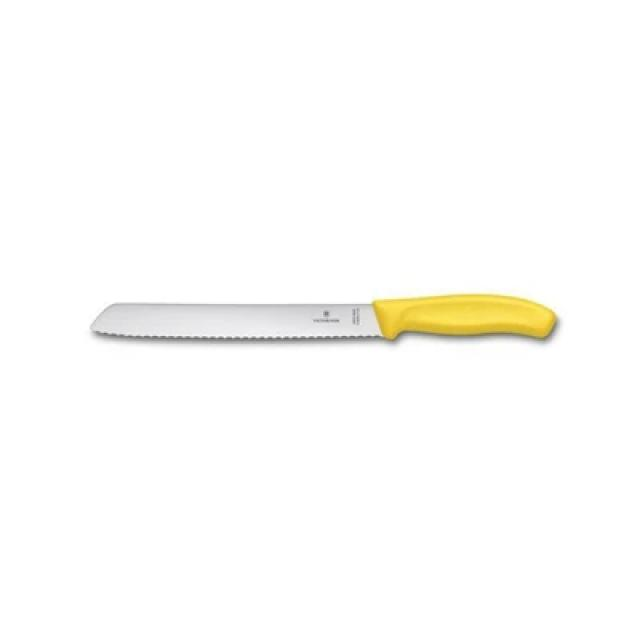Knife: (91, 293, 557, 342)
